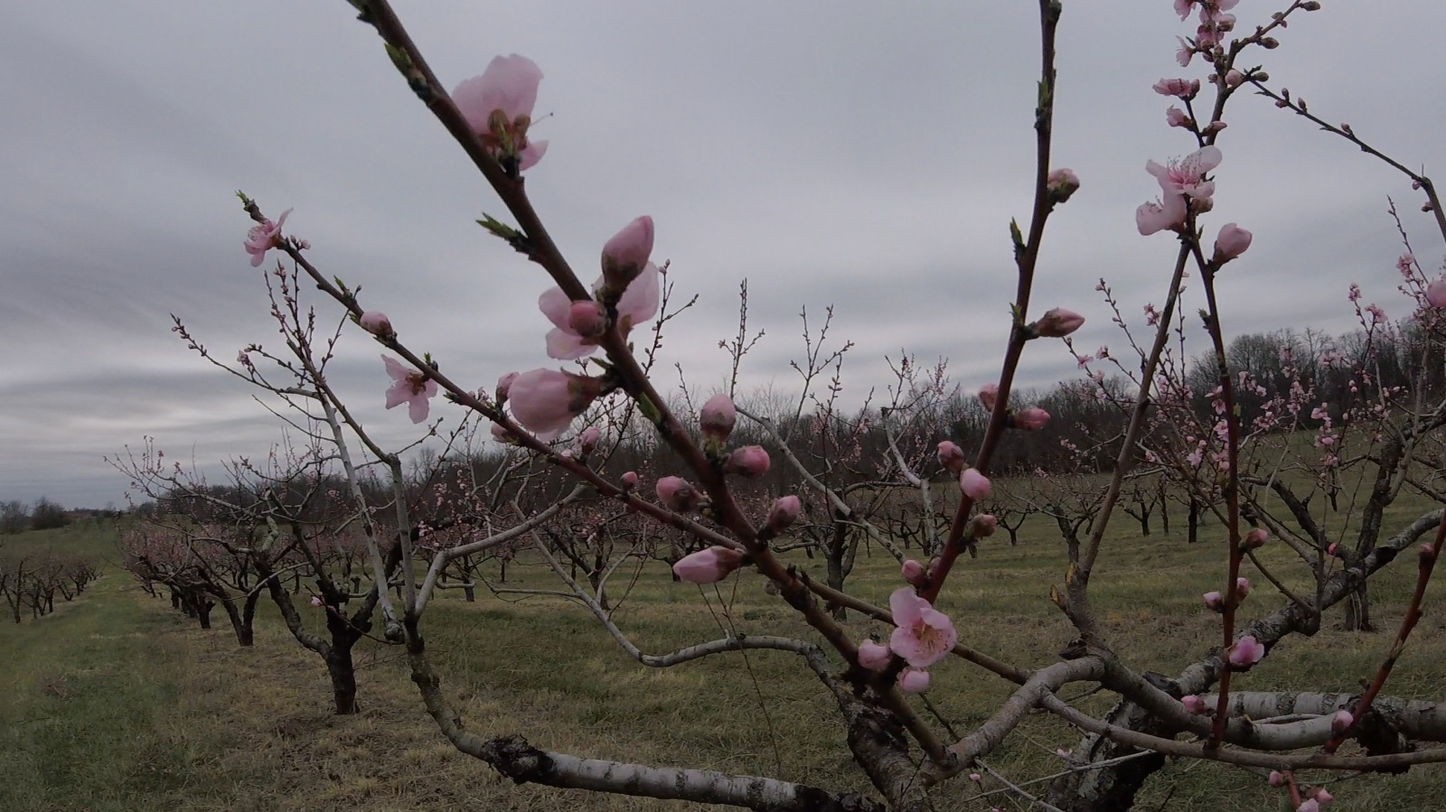flower: (859, 585, 958, 669), (601, 215, 671, 333), (1136, 145, 1223, 236), (450, 54, 544, 135), (497, 368, 583, 445), (539, 273, 605, 363), (381, 355, 438, 425), (244, 208, 294, 267), (673, 549, 720, 582), (1214, 223, 1253, 259), (1047, 163, 1081, 195), (703, 390, 737, 418), (1230, 637, 1264, 665), (1152, 79, 1200, 98), (522, 136, 549, 169), (962, 469, 991, 498), (1297, 790, 1334, 812), (1212, 0, 1240, 29), (1419, 273, 1446, 303), (576, 425, 606, 452), (1187, 25, 1217, 51), (744, 448, 771, 475), (900, 668, 930, 689), (1056, 311, 1085, 331), (657, 476, 681, 500), (1174, 0, 1197, 23), (361, 313, 390, 330), (979, 385, 1000, 408), (1177, 36, 1192, 68), (1168, 105, 1185, 127), (775, 495, 801, 509), (1029, 409, 1051, 425), (902, 560, 921, 578), (492, 423, 507, 444), (938, 441, 960, 455), (1181, 695, 1197, 711), (1225, 69, 1242, 83), (1337, 711, 1354, 722), (1199, 8, 1209, 25), (1066, 196, 1071, 203), (582, 411, 587, 417)
